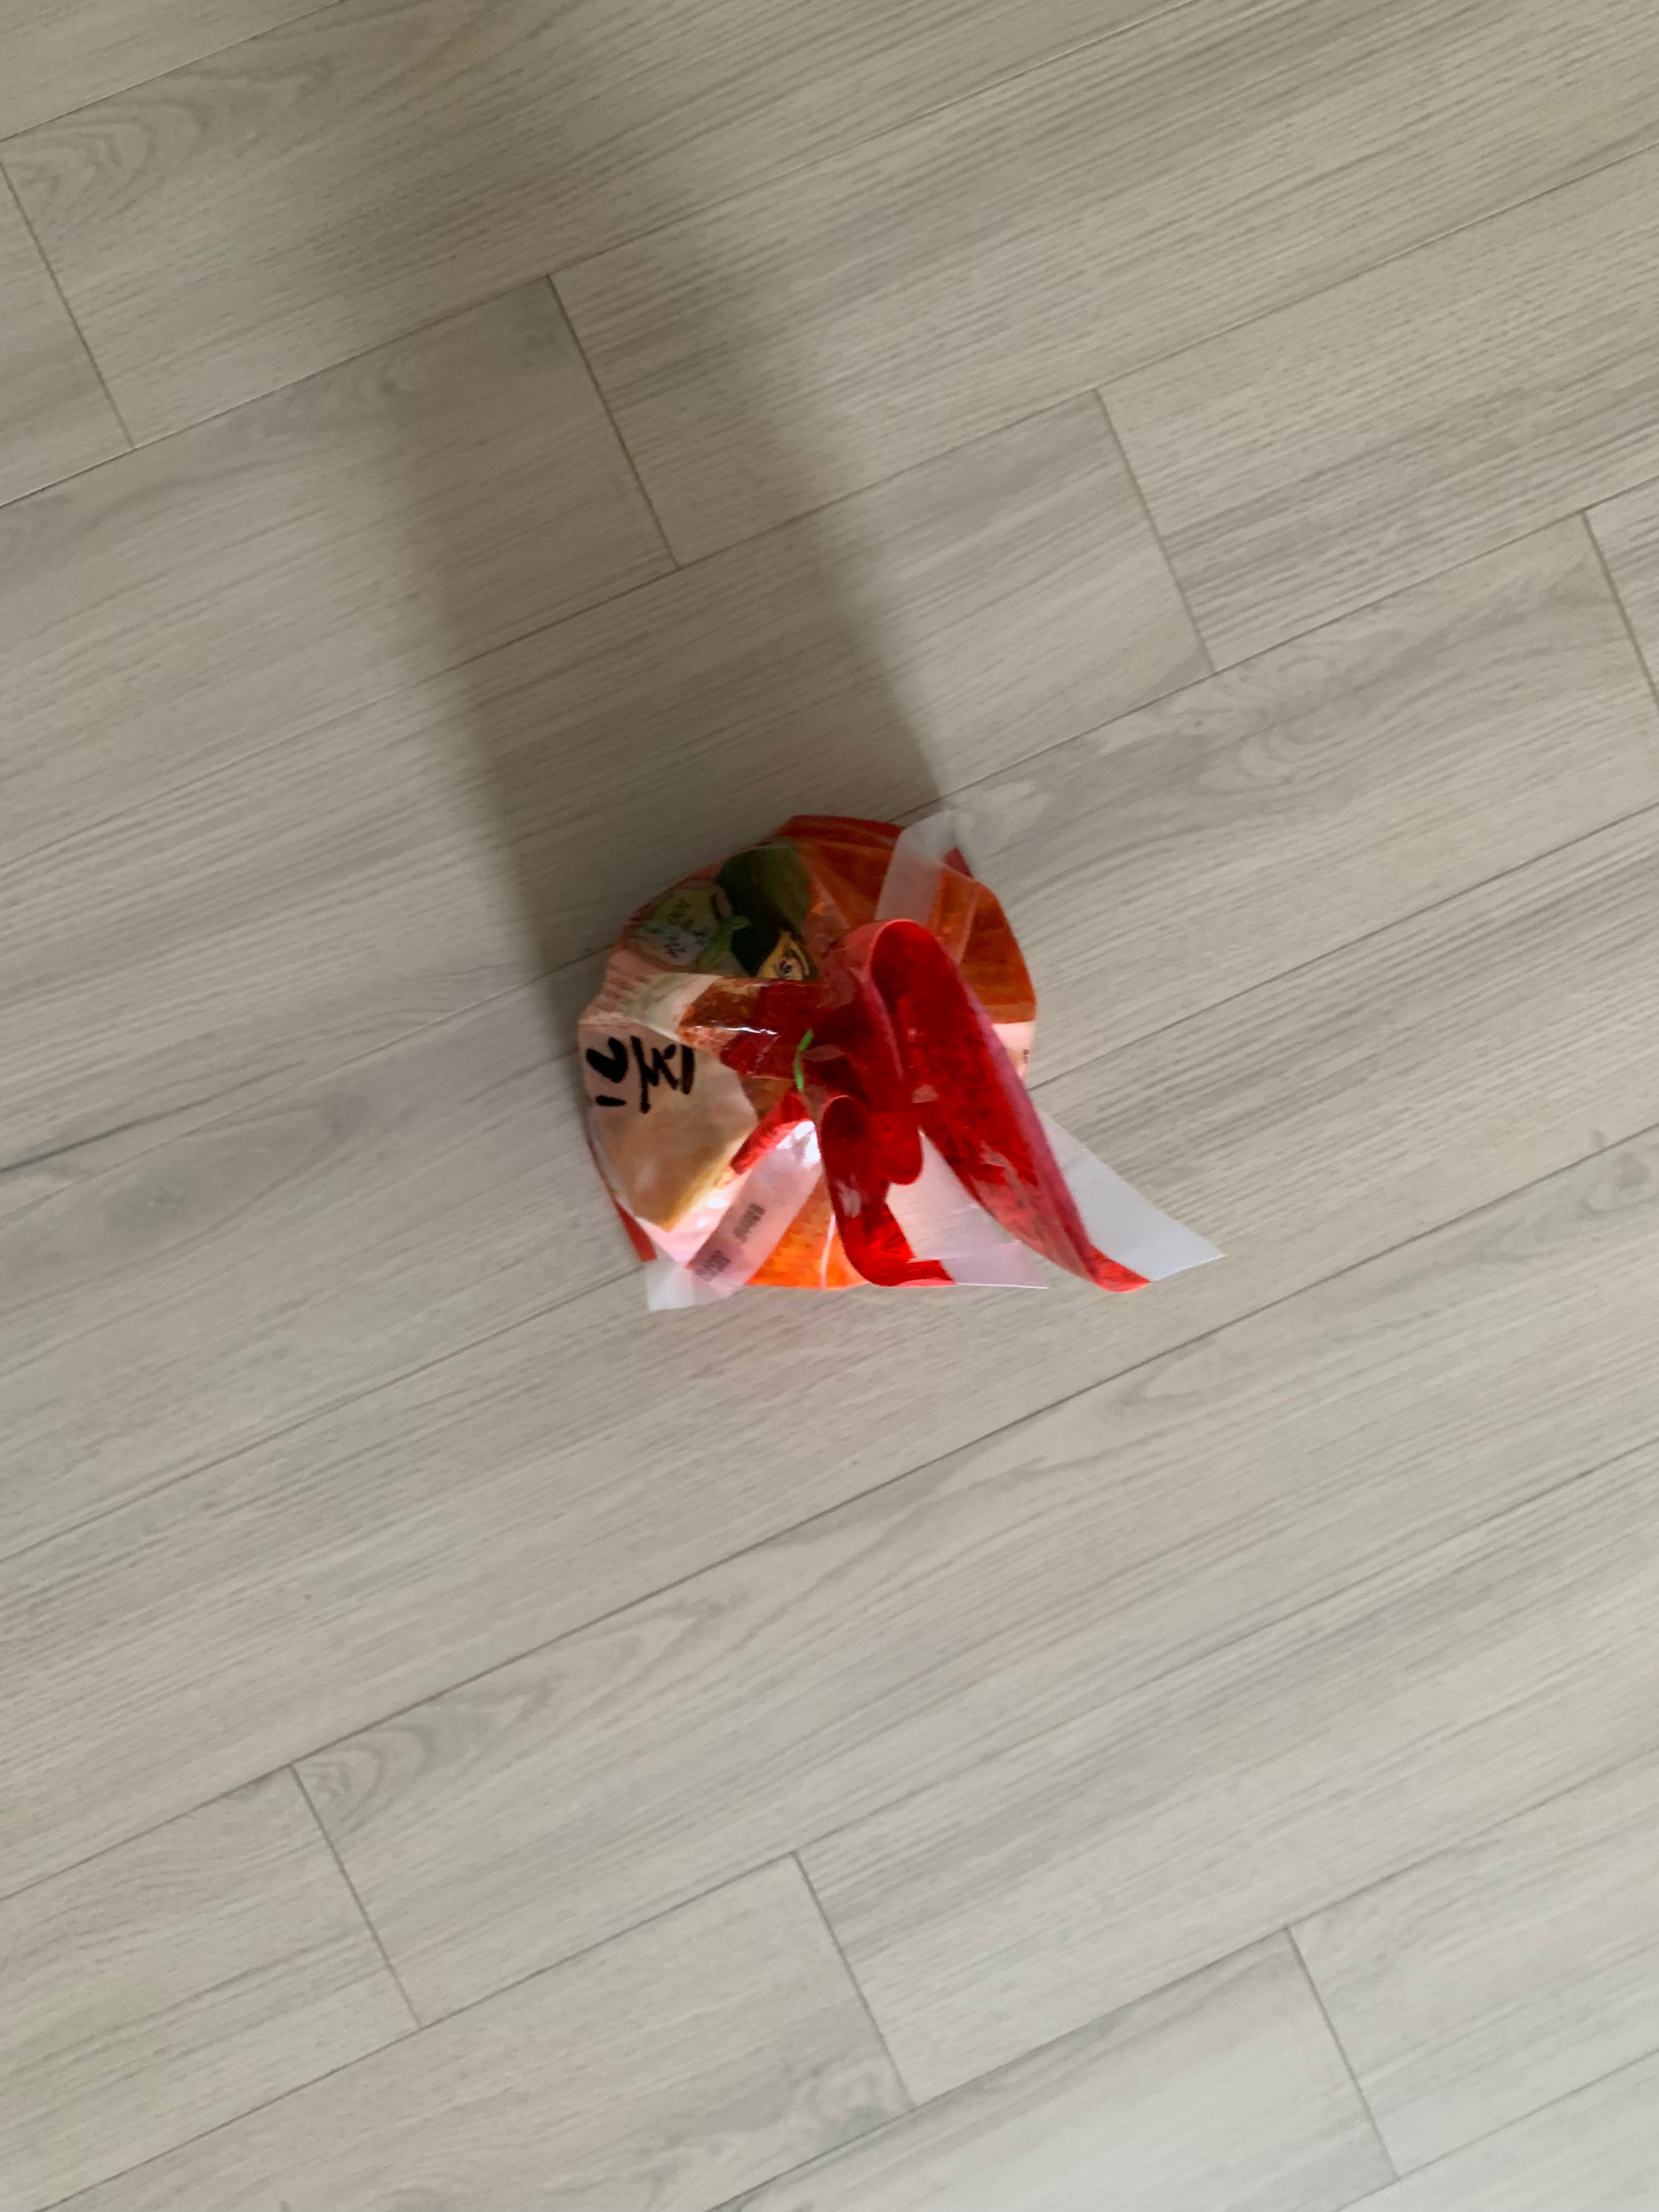kimchi: (577, 812, 1134, 1301)
